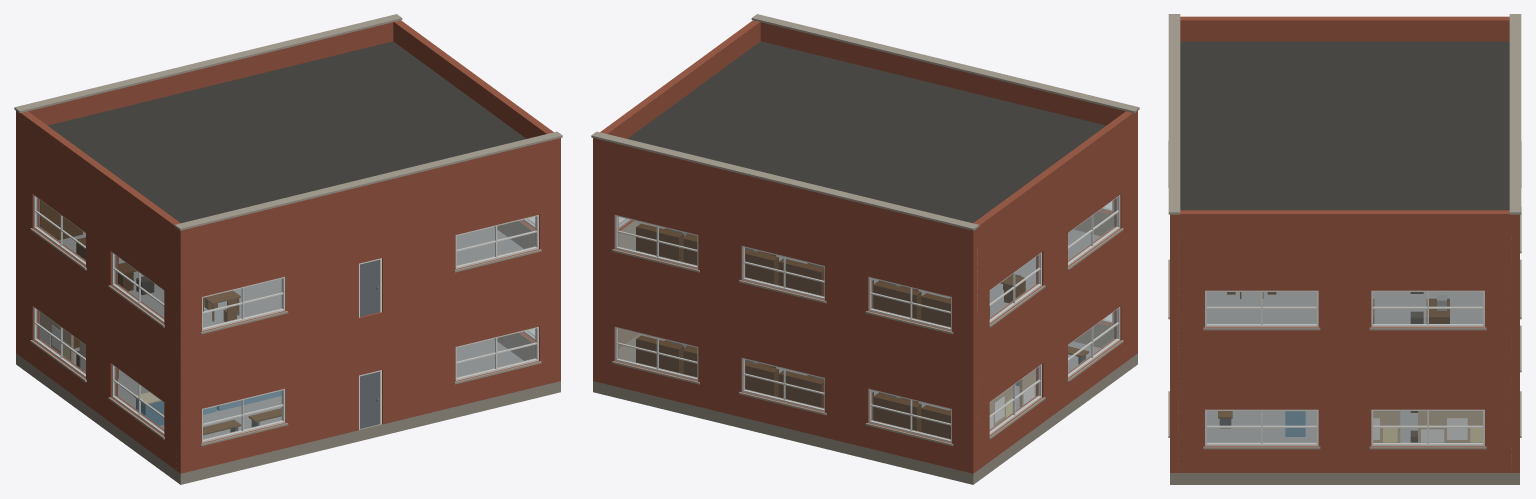
Rendered from harbour_office.glb.
3 renders of one model, left to right at view 1: azimuth 30°, elevation 25°; view 2: azimuth 150°, elevation 25°; view 3: azimuth 270°, elevation 25°, orthographic. The views are drawn at different scales.
Parts seen in each view (by area): view 1: LOD0, FURN, LEAF0, LEAF1; view 2: LOD0, FURN; view 3: LOD0, FURN.
Part boxes in pixels (<box>): LOD0: <box>14,14,562,484</box>; FURN: <box>39,200,281,435</box>; LEAF0: <box>360,371,379,428</box>; LEAF1: <box>360,259,379,316</box>; LOD0: <box>591,14,1139,484</box>; FURN: <box>618,223,1088,439</box>; LOD0: <box>1168,14,1521,484</box>; FURN: <box>1218,292,1482,442</box>.
Size of what is drawn, in the model's own units: 16.12 by 10.33 by 12.12.
